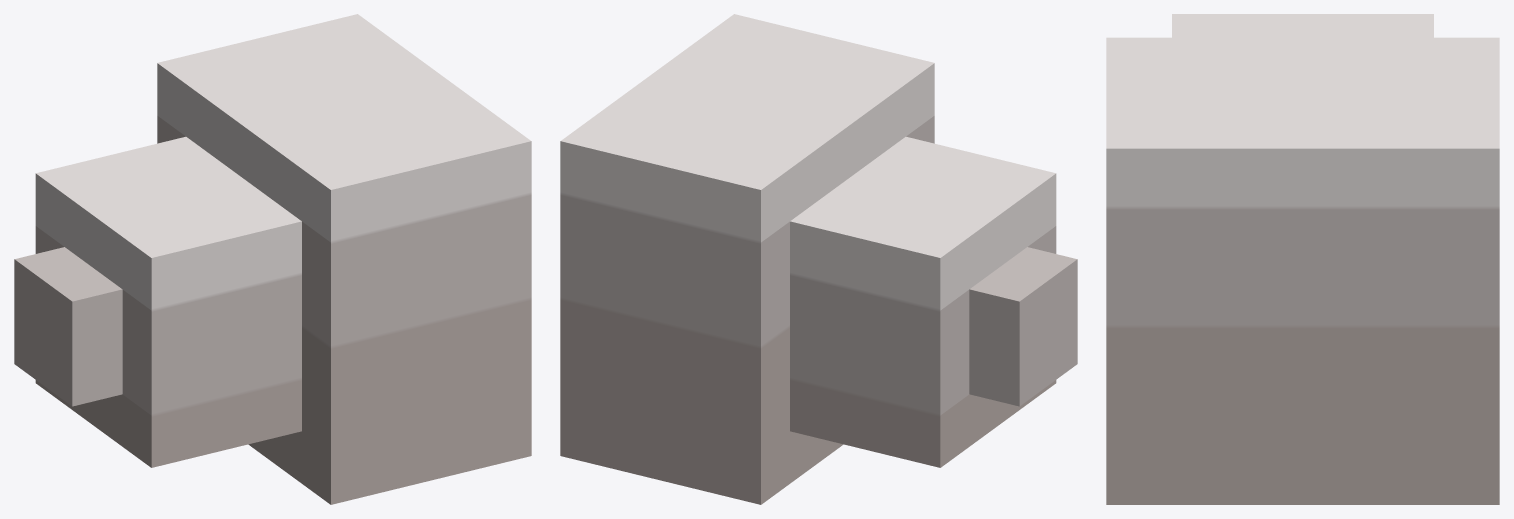
The model's file is Shoulder040.fbx.
3 views of the same model, side by side, from view 1: azimuth 30°, elevation 25°; view 2: azimuth 150°, elevation 25°; view 3: azimuth 270°, elevation 25° (orthographic). The views are drawn at different scales.
Parts seen in each view (by area): view 1: Shoulder040; view 2: Shoulder040; view 3: Shoulder040.
Boxes of the visible parts, bbox=[...] form: Shoulder040: bbox=[14, 14, 531, 504]; Shoulder040: bbox=[560, 14, 1077, 504]; Shoulder040: bbox=[1106, 14, 1499, 504].
Bounding box in the file's own units: 8 × 6 × 6.
